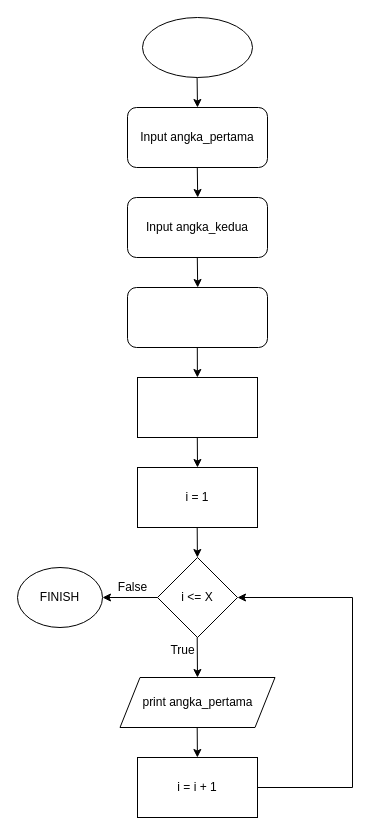
Image size: 378x835. Some labels were removed from this diagram. Each missing label, with the centre of its shape:
"Input X" goes at pixel 197 317.
"selisih = angka_kedua - angka_pertama" goes at pixel 197 407.
"START" goes at pixel 197 47.
